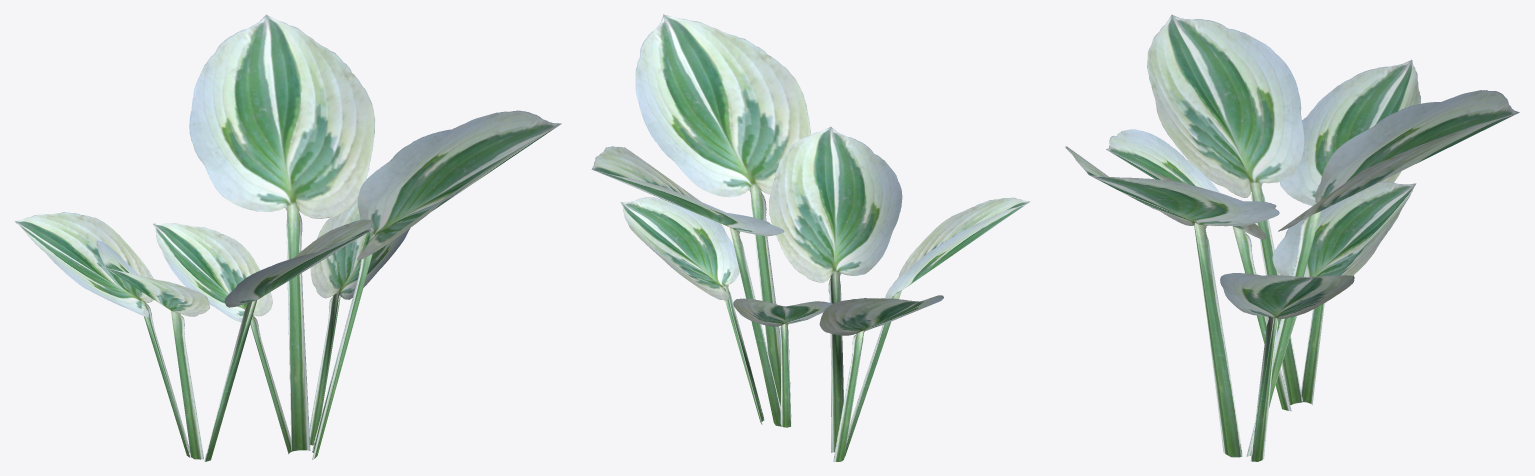
Rendered from plant_small_wg_01F.fbx.
3 views of the same model, side by side, from view 1: azimuth 30°, elevation 25°; view 2: azimuth 150°, elevation 25°; view 3: azimuth 270°, elevation 25° (orthographic). The views are drawn at different scales.
Parts seen in each view (by area): view 1: plant_small_wg_01F; view 2: plant_small_wg_01F; view 3: plant_small_wg_01F.
Part boxes in pixels (x1=…): plant_small_wg_01F: x1=15, y1=14, x2=561, y2=461; plant_small_wg_01F: x1=591, y1=14, x2=1029, y2=461; plant_small_wg_01F: x1=1065, y1=14, x2=1519, y2=461.
Size of the model in its own units: 63.39 by 47.73 by 51.66.
